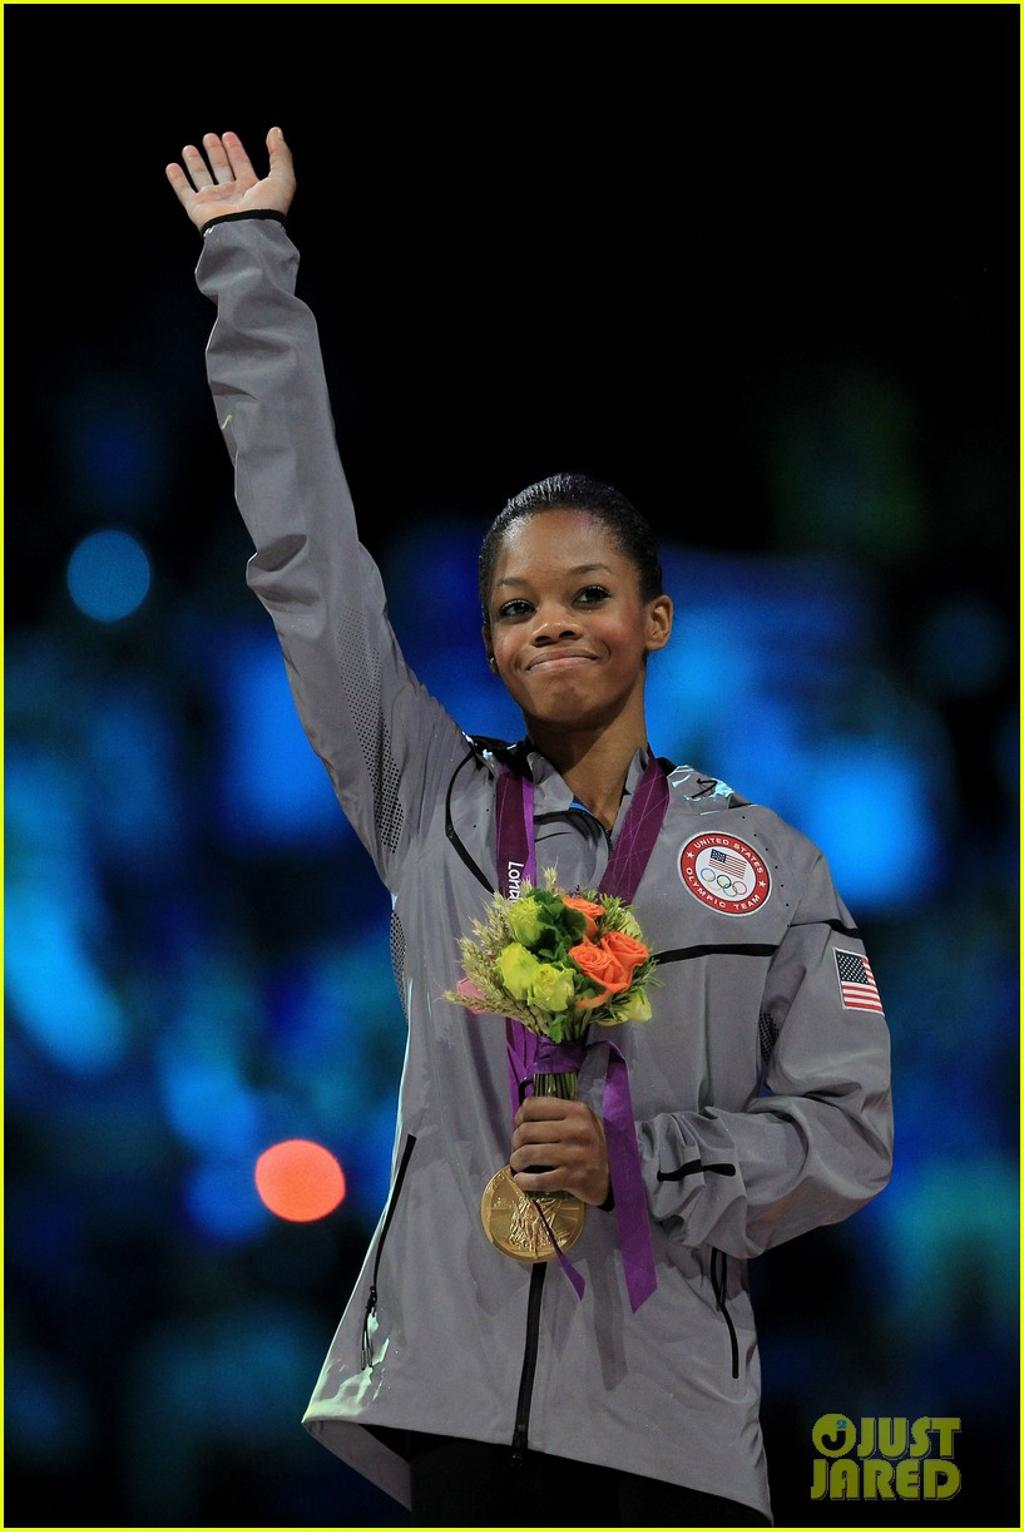face: (488, 509, 644, 722)
